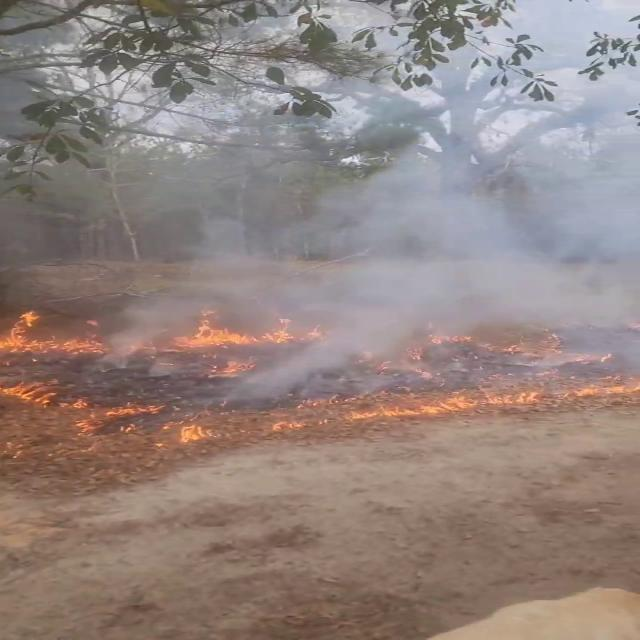Fire: (178, 307, 302, 375), (364, 384, 510, 423), (0, 308, 101, 361)
Smoke: (14, 3, 639, 401)
